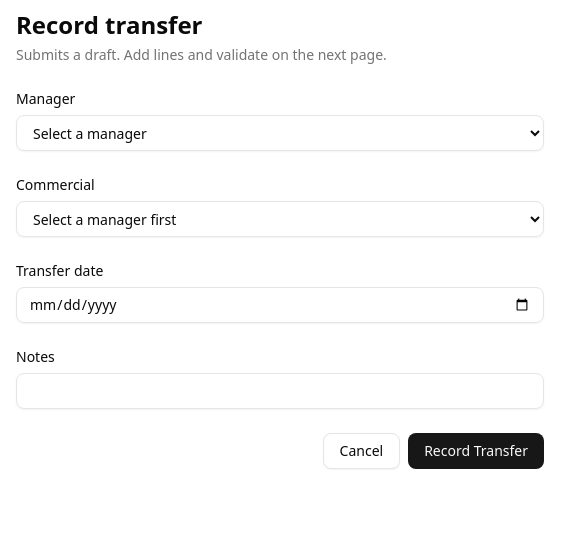
Test case: failure preserves entered values › shows a general error and does not navigate on a server failure
Select "Youssef Bennani" in the dropdown labelled "Manager": {"x": 280, "y": 133} [16,115,544,151]
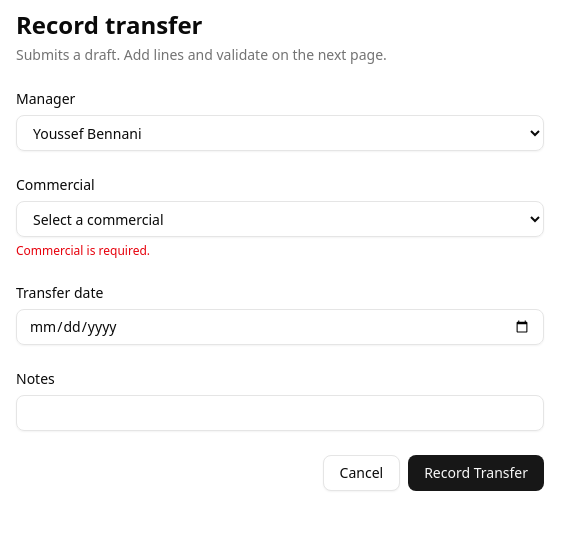
Select "Sara Alaoui" in the dropdown labelled "Commercial": {"x": 280, "y": 219} [16,201,544,237]
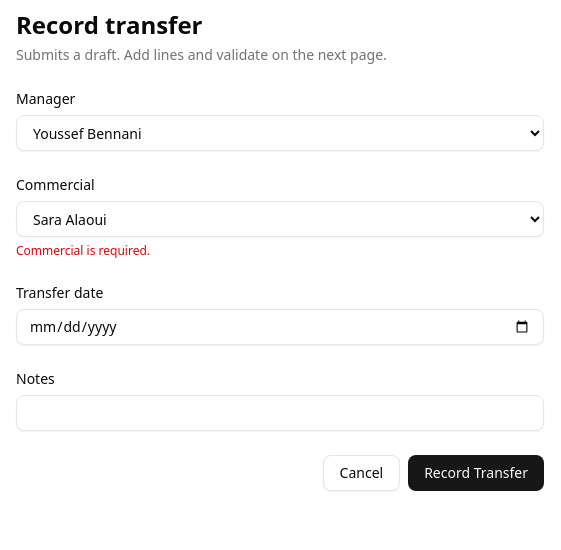
In the field labelled "Notes": {"x": 280, "y": 413} [16,395,544,431], type "Restocking"
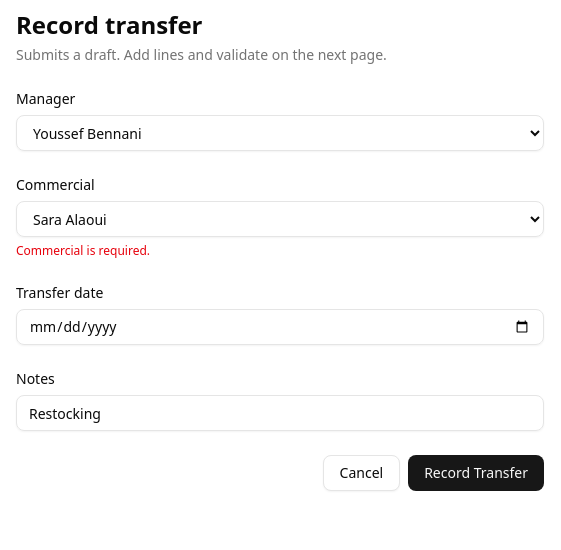
Click the button "Record Transfer": {"x": 476, "y": 473} [408,455,544,491]
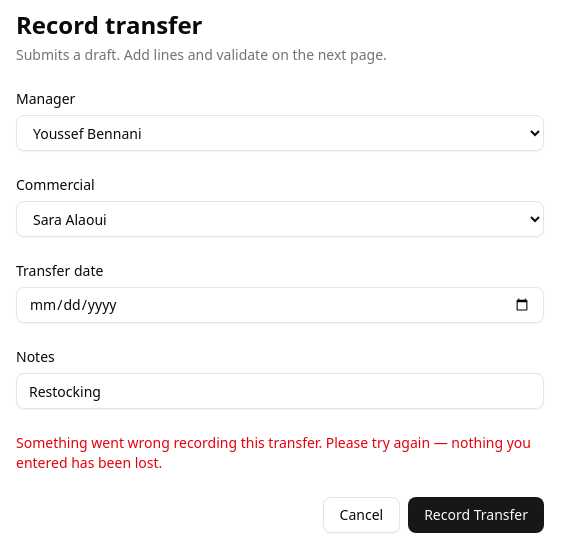
Now the text "Something went wrong recording this transfer" is shown, box [16,433,531,472]
